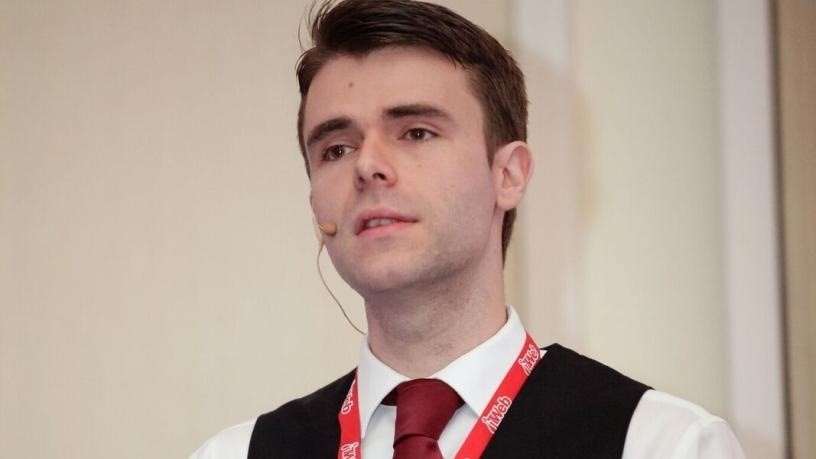face_no_mask: (296, 6, 533, 291)
